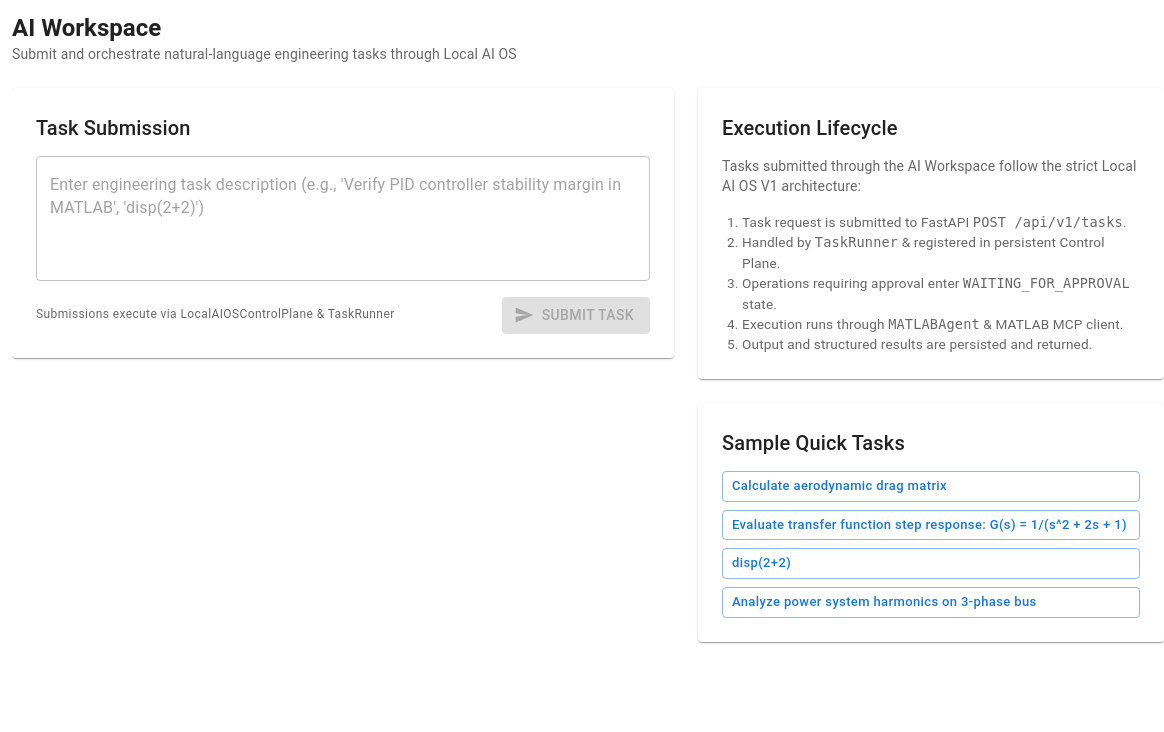
AI Workspace Page › handles submission failure with error alert
Replace the text in the text box with placeholder "Enter engineering task description" with "invalid syntax test" at (343, 218), box [50,172,636,264]
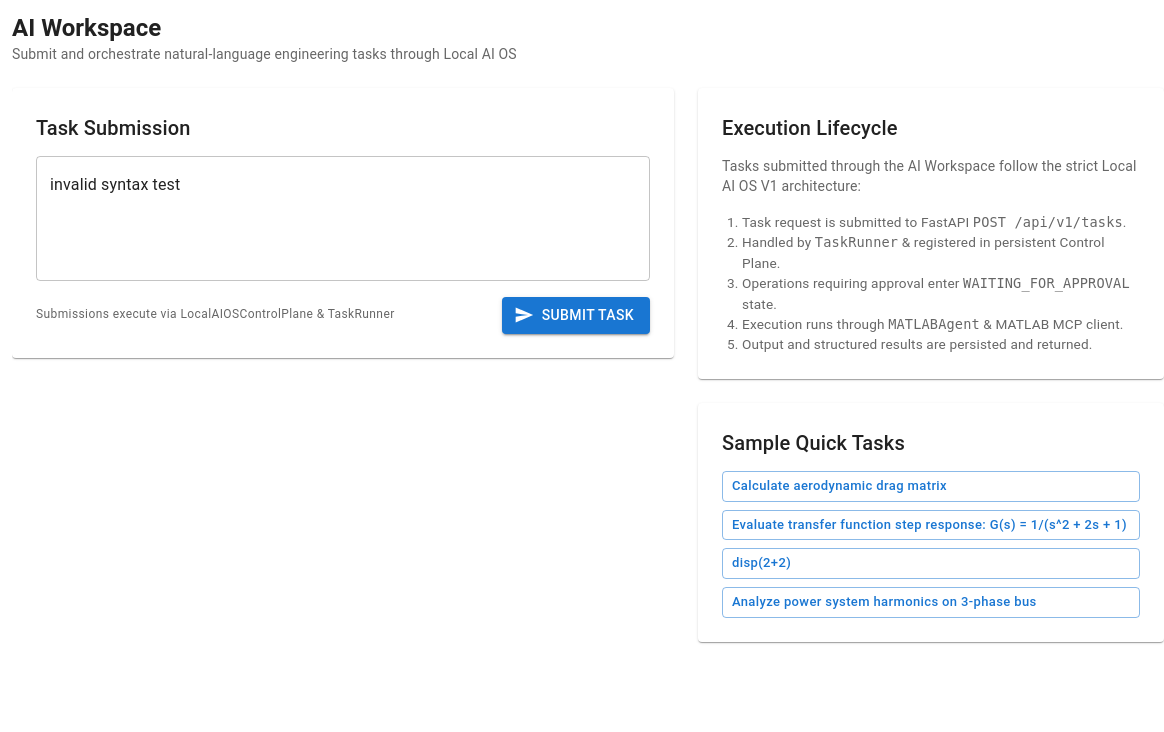
Click the button "Submit Task" at (576, 315), box [502,297,650,334]
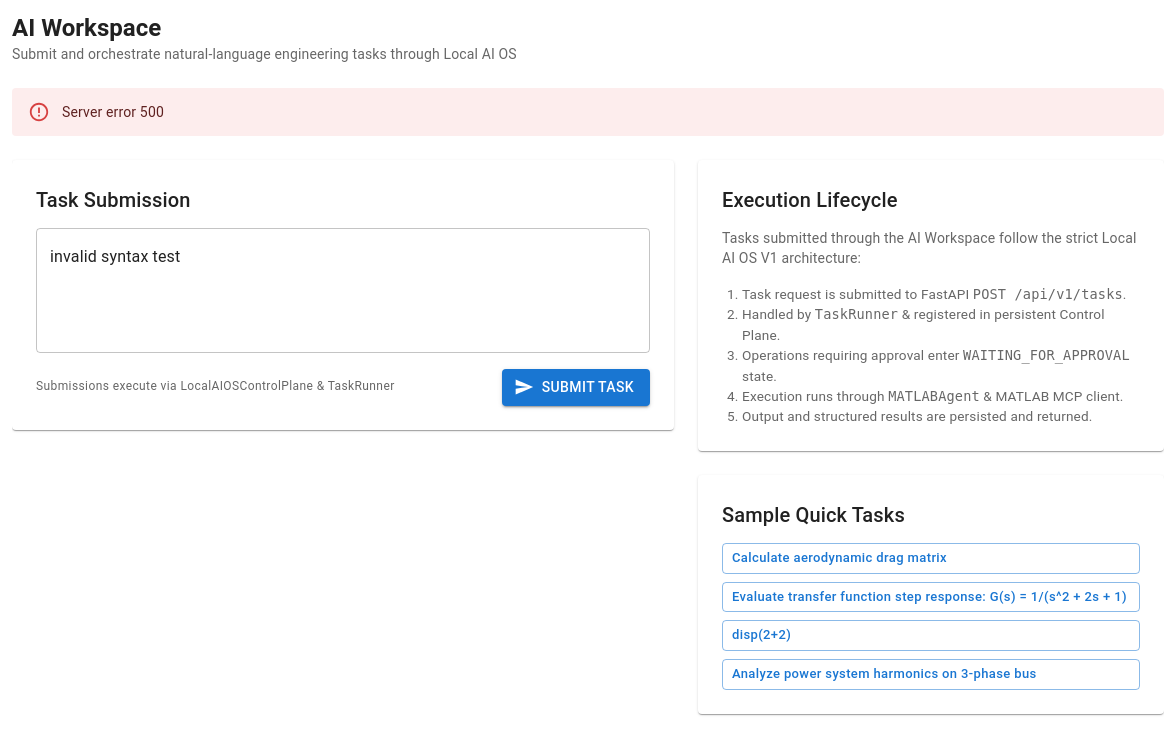
Expected: the text "Server error 500" is shown, [62,104,164,120]
